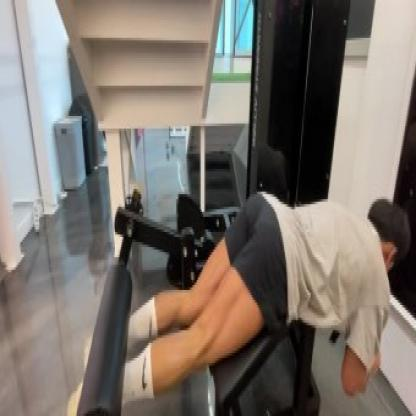reg curl machine: (72, 0, 413, 416)
